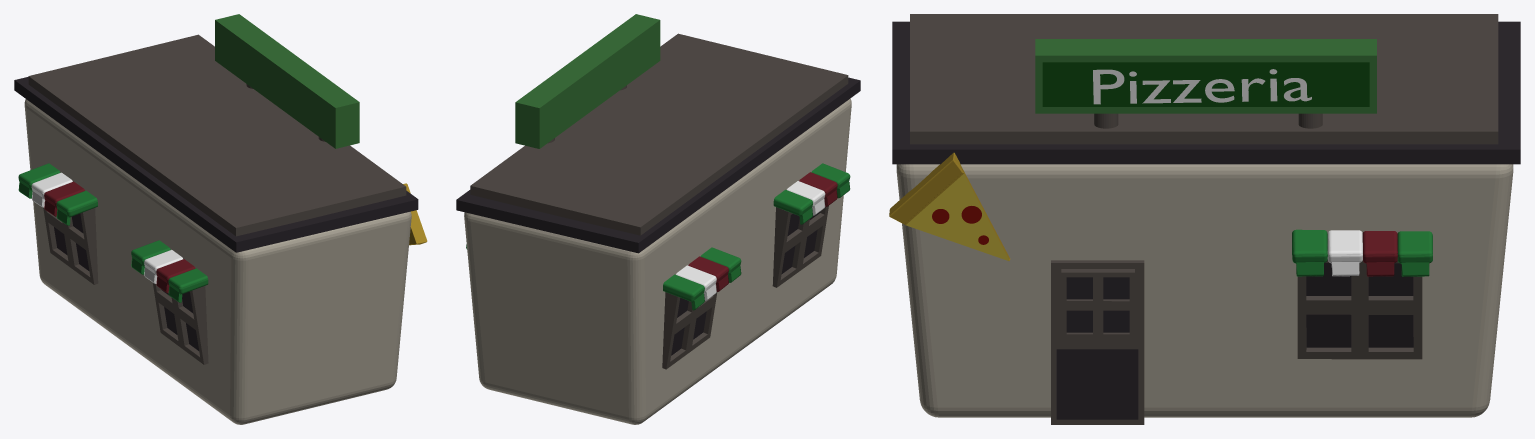
File: restaurant.fbx
The picture shows the model from 3 angles, left to right: view 1: azimuth 30°, elevation 25°; view 2: azimuth 150°, elevation 25°; view 3: azimuth 270°, elevation 25°; orthographic projection. The views are drawn at different scales.
Visible parts, largest first — view 1: Cube, Cube.001, Plane; view 2: Cube, Cube.001; view 3: Cube, Cube.001, Plane, Text.
Part boxes in pixels (x1,y1,x2,y2): Cube: (18, 99, 411, 424); Cube.001: (14, 14, 418, 364); Plane: (403, 183, 427, 245); Cube: (464, 98, 851, 424); Cube.001: (456, 14, 860, 369); Cube: (896, 164, 1513, 417); Cube.001: (892, 14, 1520, 424); Plane: (889, 152, 1010, 260); Text: (1093, 69, 1311, 104).
Bounding box in the file's own units: 812 × 865 × 1348.
